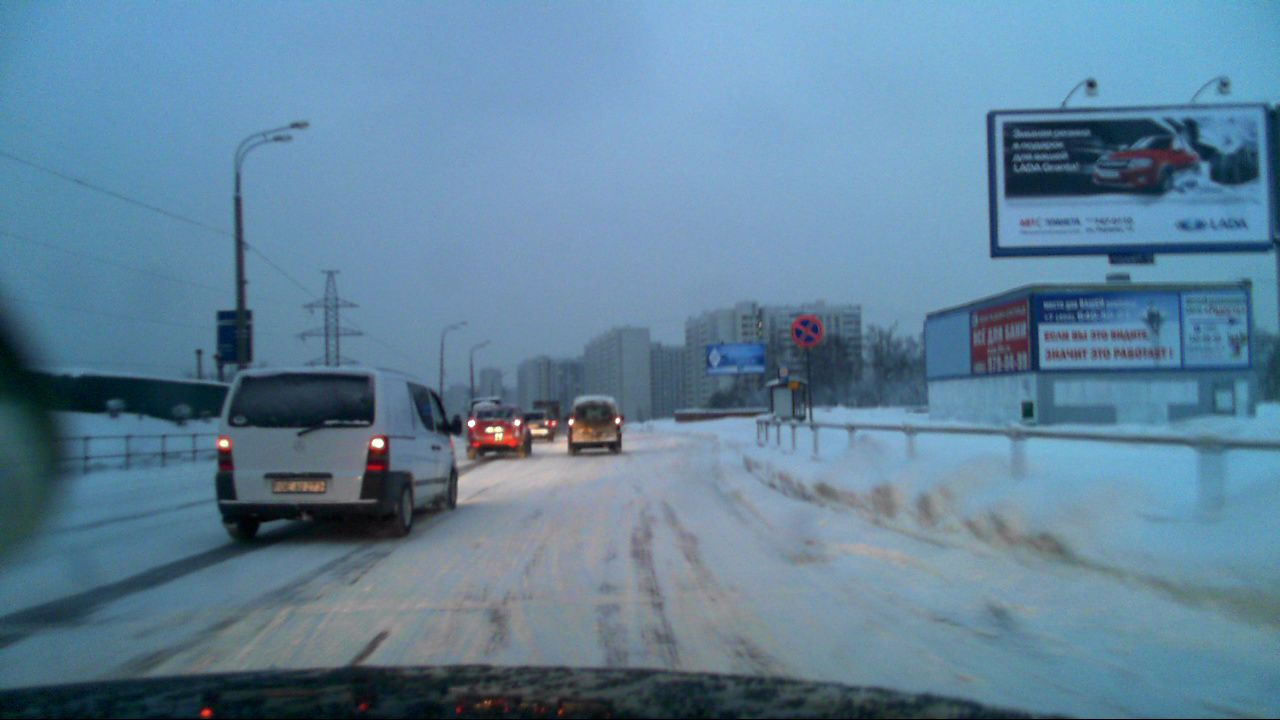No Parking: (788, 317, 818, 348)
